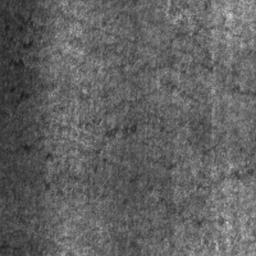Crazing: (0, 6, 256, 200), (178, 128, 256, 195), (82, 158, 172, 205), (0, 218, 74, 256), (155, 197, 226, 228), (105, 120, 178, 140), (3, 187, 32, 212), (169, 0, 190, 16), (203, 0, 225, 11), (247, 50, 256, 62)
